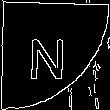N_N: (34, 29, 76, 81)
